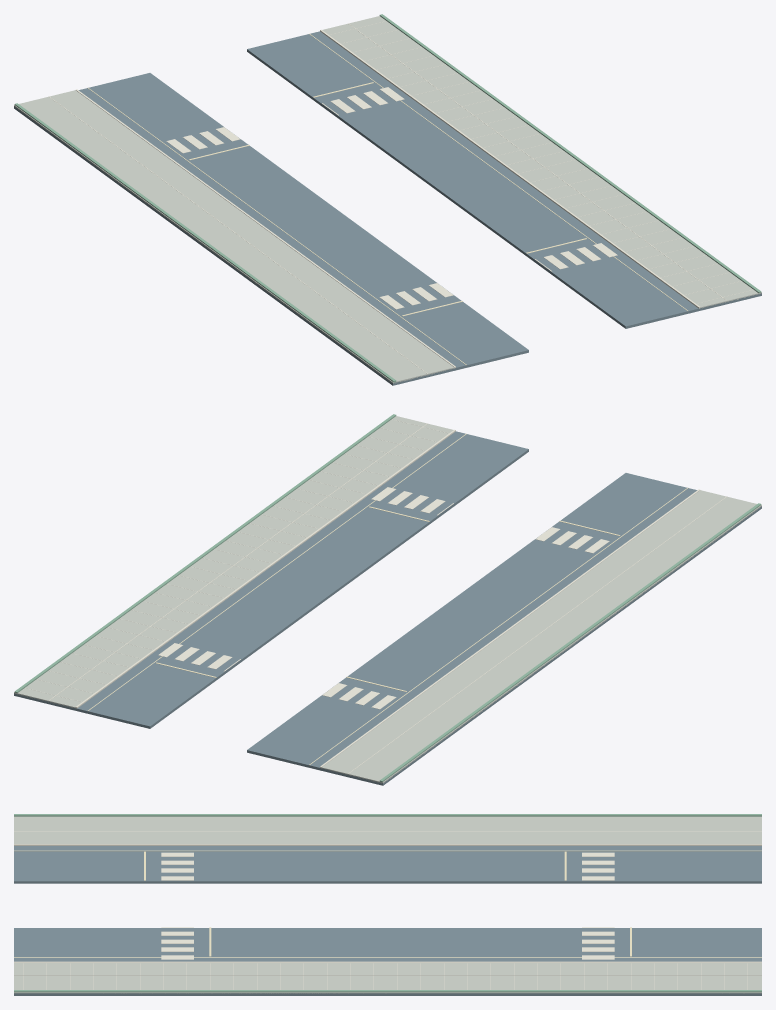
The model's file is road.glb.
3 renders of one model, top to bottom at view 1: azimuth 30°, elevation 25°; view 2: azimuth 150°, elevation 25°; view 3: azimuth 270°, elevation 25°, orthographic.
Visible parts, largest first — view 1: Sora_Road_Surface; view 2: Sora_Road_Surface; view 3: Sora_Road_Surface.
Part boxes in pixels (left/top/right/bottom): Sora_Road_Surface: left=14, top=14, right=761, bottom=385; Sora_Road_Surface: left=14, top=414, right=761, bottom=785; Sora_Road_Surface: left=14, top=814, right=761, bottom=995.
Size of the model in its own units: 90 by 1.05 by 160.
